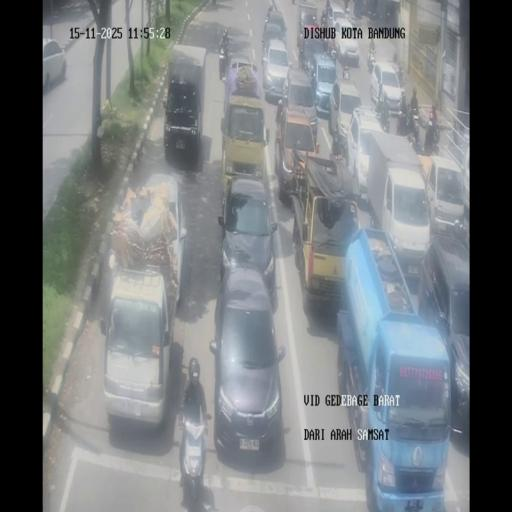3: (338, 231, 450, 506), (291, 154, 360, 316), (364, 133, 428, 270), (219, 75, 267, 198), (164, 45, 208, 169)
car: (210, 268, 285, 464), (102, 266, 174, 430), (217, 176, 277, 297), (135, 174, 188, 306), (274, 96, 319, 202), (424, 155, 465, 235), (329, 78, 362, 158), (308, 52, 338, 117), (261, 38, 291, 102), (372, 60, 404, 112), (332, 17, 360, 65), (42, 37, 66, 93), (295, 2, 319, 54), (262, 8, 287, 44)
truck: (177, 397, 211, 505), (424, 113, 440, 153), (406, 125, 422, 154), (218, 41, 229, 81), (377, 102, 390, 132), (410, 88, 419, 124), (366, 42, 376, 72), (368, 0, 382, 21), (397, 110, 408, 135), (341, 55, 351, 81), (320, 4, 330, 27), (321, 33, 331, 56), (351, 1, 363, 20), (298, 34, 304, 62), (399, 90, 407, 110), (385, 6, 392, 26), (392, 42, 398, 64), (345, 7, 350, 19)
